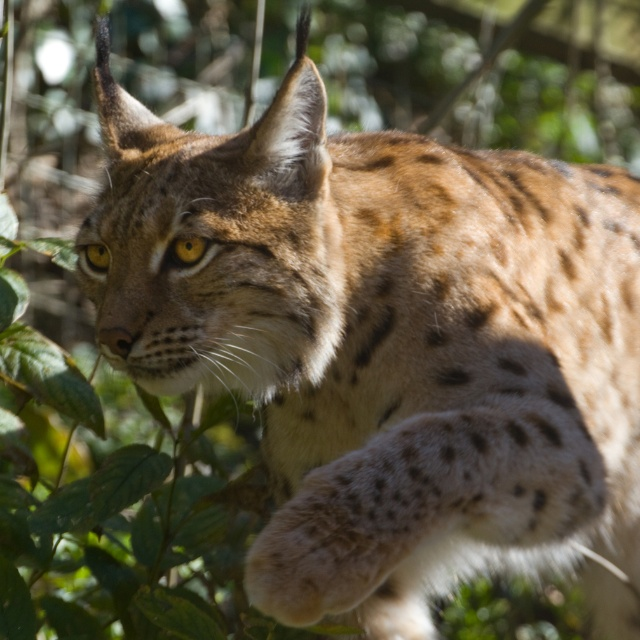Lynx: (72, 0, 640, 640)
